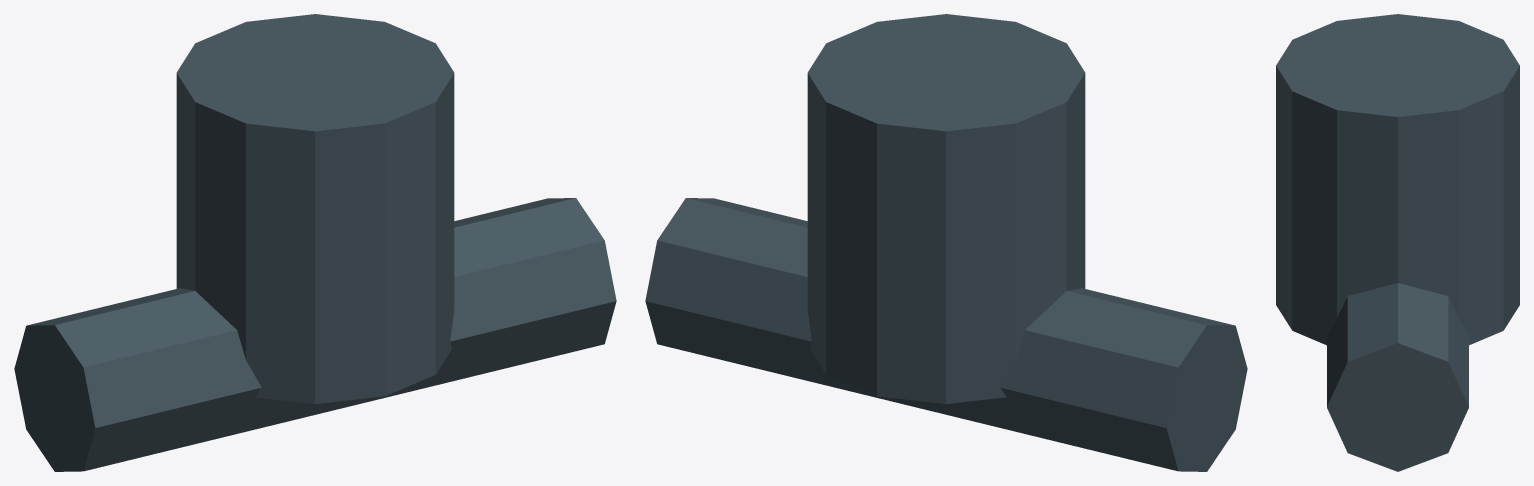
File: set_piston.glb
The picture shows the model from 3 angles, left to right: view 1: azimuth 30°, elevation 25°; view 2: azimuth 150°, elevation 25°; view 3: azimuth 270°, elevation 25°; orthographic projection. The views are drawn at different scales.
Parts seen in each view (by area): view 1: set_piston; view 2: set_piston; view 3: set_piston.
Part boxes in pixels (<box>): set_piston: <box>14,14,616,471</box>; set_piston: <box>645,14,1247,471</box>; set_piston: <box>1276,14,1519,471</box>.
Size of the model in its own units: 0.26 by 0.16 by 0.12.
